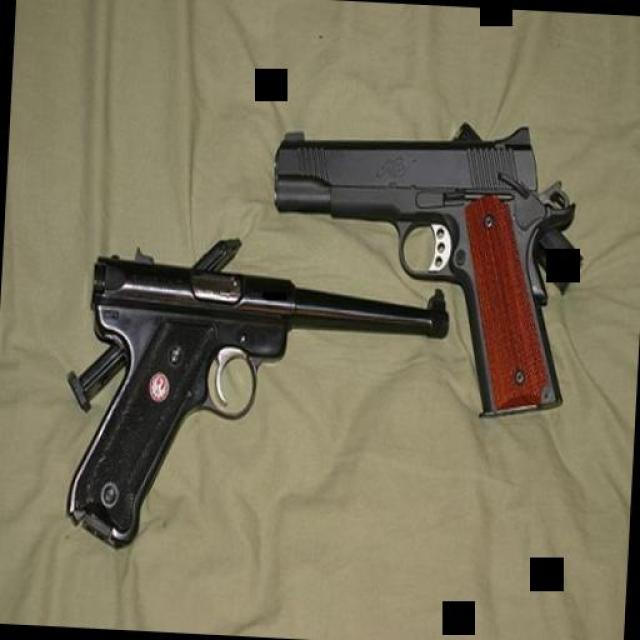gun: (56, 259, 454, 559), (252, 95, 578, 425)
